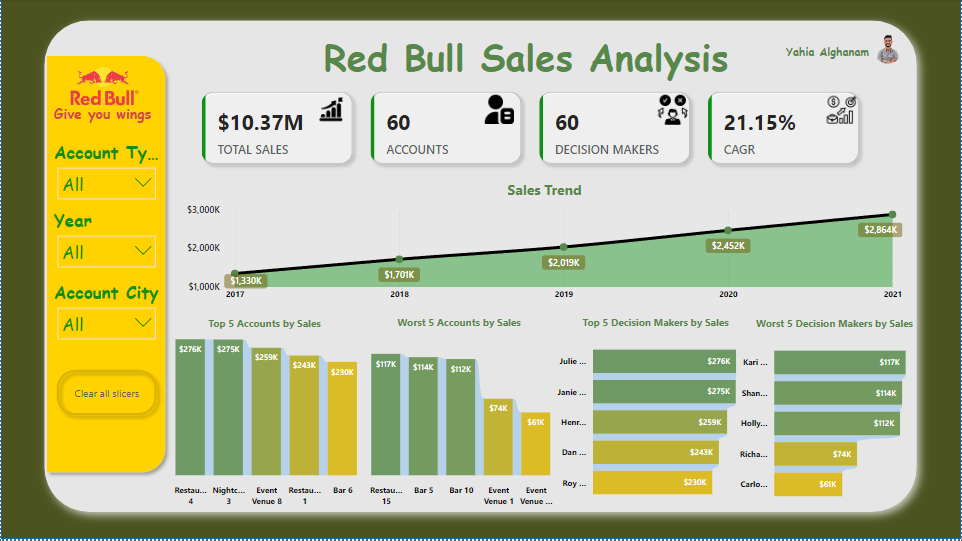

What the dashboard file says about the page in this screenshot:
{"tool":"powerbi","page":{"name":"Red Bull Sales Analysis","canvas":[1280,720],"ordinal":0},"visuals":[{"type":"shape","box":[0,0,1280,719.8],"z":0},{"type":"shape","box":[39.9,11,1198.8,690.9],"z":1000},{"type":"textbox","box":[425,37.5,563.8,77.5],"z":2000},{"type":"barChart","title":"Top 5 Decision Makers by Sales","fields":{"Category":["Account_info.Decision maker"],"Y":["Sum(Account_info.Sales)"]},"box":[725.3,421.3,294.7,261.3],"z":3000},{"type":"columnChart","title":"Top 5 Accounts by Sales","fields":{"Category":["Account_info.Account name"],"Y":["Sum(Account_info.Sales)"]},"box":[201.3,422.7,300,261.3],"z":4000},{"type":"columnChart","title":"Worst 5 Accounts by Sales","fields":{"Category":["Account_info.Account name"],"Y":["Sum(Account_info.Sales)"]},"box":[462.7,421.3,296,262.7],"z":5000},{"type":"barChart","title":"Worst 5 Decision Makers by Sales","fields":{"Category":["Account_info.Decision maker"],"Y":["Sum(Account_info.Sales)"]},"box":[968,422.7,286.7,262.7],"z":6000},{"type":"lineChart","title":"Sales Trend","fields":{"Y":["Sum(Account_info.Sales)"],"Category":["Account_info.Attribute"]},"box":[242.7,241.3,964,170.7],"z":7000},{"type":"shape","box":[52.5,66.2,176.2,573.8],"z":8000},{"type":"image","box":[75,61.2,126.2,108.8],"z":9000},{"type":"textbox","box":[65,133.8,151.2,38.8],"z":10000},{"type":"slicer","title":"Account Type ","fields":{"Values":["Account_info.Account type"]},"box":[65,187.5,151.2,87.5],"z":11000},{"type":"cardVisual","fields":{"Data":["Sum(Account_info.Sales)","Account_info.Number of Accounts","Account_info.Number of decision makers","Account_info.CAGR"]},"box":[250.7,106.7,910.7,130.7],"z":12000},{"type":"slicer","title":"Account City ","fields":{"Values":["Account_info.Account City"]},"box":[65,375,151.2,96.2],"z":13000},{"type":"image","box":[1095,122.5,51.2,50],"z":14000},{"type":"image","box":[415,122.5,51.2,48.8],"z":15000},{"type":"image","box":[870,122.5,50,50],"z":16000},{"type":"image","box":[640,122.5,48.8,48.8],"z":17000},{"type":"actionButton","box":[65,485,151.2,78.8],"z":18000},{"type":"slicer","title":"Year ","fields":{"Values":["Account_info.Attribute"]},"box":[65,278.8,151.2,96.2],"z":19000},{"type":"textbox","box":[1041.2,55,141.2,40],"z":20000},{"type":"image","box":[1146.2,37.5,71.2,57.5],"z":21000}]}

Visuals, with their boxes in screenshot pixels (x1, y1, x2, y2), scaled from the page's 1280x720 canvas onto the 962x541 screenshot:
shape: <box>0,0,961,540</box>
shape: <box>30,8,931,527</box>
textbox: <box>319,28,743,86</box>
"Top 5 Decision Makers by Sales" barChart: <box>545,317,767,513</box>
"Top 5 Accounts by Sales" columnChart: <box>151,318,377,514</box>
"Worst 5 Accounts by Sales" columnChart: <box>348,317,570,514</box>
"Worst 5 Decision Makers by Sales" barChart: <box>728,318,943,515</box>
"Sales Trend" lineChart: <box>182,181,907,310</box>
shape: <box>39,50,172,481</box>
image: <box>56,46,151,128</box>
textbox: <box>49,101,162,130</box>
"Account Type " slicer: <box>49,141,162,207</box>
cardVisual - Sum(Account_info.Sales) x Account_info.Number of Accounts: <box>188,80,873,178</box>
"Account City " slicer: <box>49,282,162,354</box>
image: <box>823,92,861,130</box>
image: <box>312,92,350,129</box>
image: <box>654,92,691,130</box>
image: <box>481,92,518,129</box>
actionButton: <box>49,364,162,424</box>
"Year " slicer: <box>49,209,162,282</box>
textbox: <box>783,41,889,71</box>
image: <box>861,28,915,71</box>
